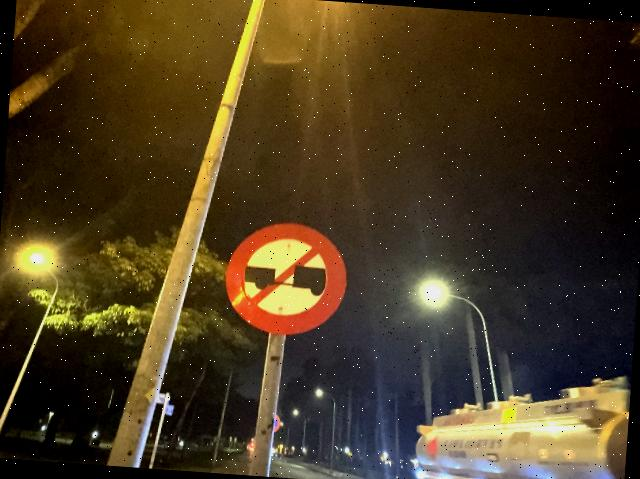cam-xe-somi-romooc: (220, 216, 350, 341)
